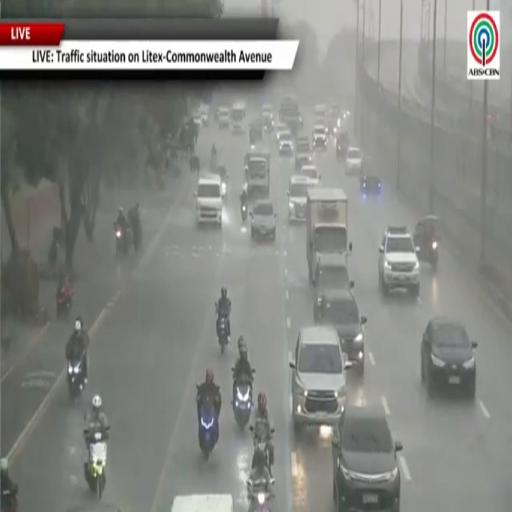car: (333, 406, 402, 511), (289, 326, 351, 433), (421, 317, 477, 398), (315, 287, 366, 375), (379, 227, 419, 297), (313, 253, 353, 302), (195, 173, 222, 227), (250, 200, 276, 241), (288, 175, 309, 221), (66, 502, 121, 511), (345, 147, 362, 175), (213, 166, 228, 197), (360, 174, 381, 195), (327, 105, 341, 136), (300, 165, 321, 185), (336, 131, 350, 158), (313, 124, 327, 150), (262, 104, 274, 133), (216, 106, 230, 130), (279, 132, 293, 156), (295, 152, 312, 171), (275, 122, 289, 143), (296, 136, 311, 153), (198, 103, 209, 126), (326, 116, 338, 136), (315, 104, 326, 122), (193, 111, 202, 127)
motorcycle: (85, 427, 109, 499), (414, 215, 439, 269), (200, 400, 218, 460), (232, 378, 253, 428), (250, 426, 270, 471), (214, 303, 230, 354), (247, 479, 272, 511), (67, 356, 85, 399), (418, 239, 438, 269), (115, 223, 132, 255), (0, 484, 18, 511), (57, 290, 73, 318), (218, 315, 229, 354), (240, 201, 248, 222)
truck: (306, 187, 351, 282), (245, 147, 270, 195), (171, 494, 233, 511), (280, 98, 303, 136)
